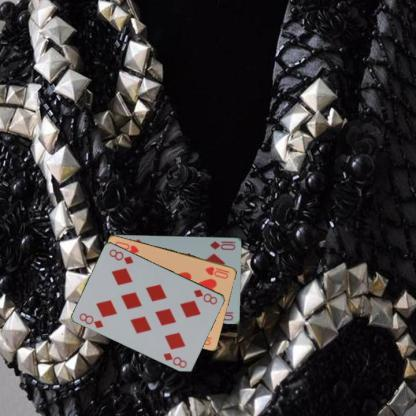10d: (208, 238, 236, 250)
10h: (202, 264, 230, 280)
8d: (191, 286, 219, 306), (76, 310, 104, 330)
